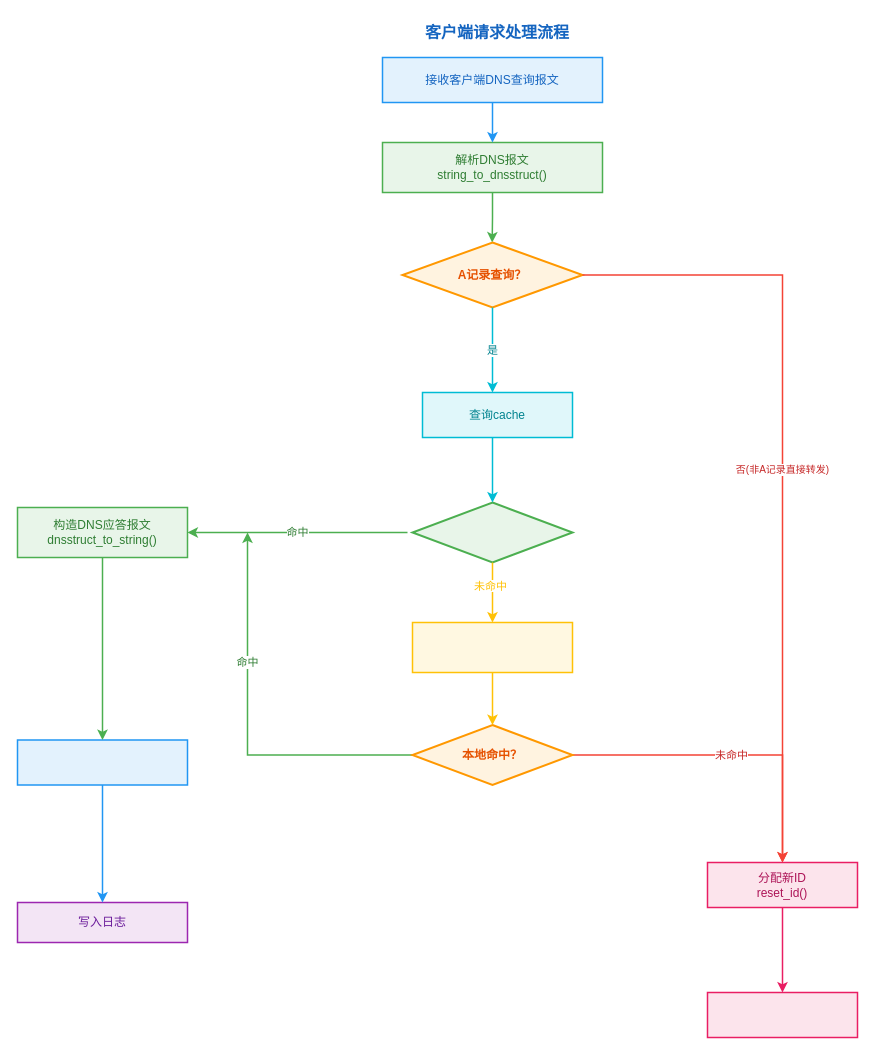
This 876x1055 diagram has some shape labels left out. Each missing label, with the centre of its shape:
保存查询报文 save_query(): point 782,1014
发送应答给客户端: point 102,762
查询本地Trie树 (dnsrelay.txt): point 492,647
缓存命中？: point 492,532
